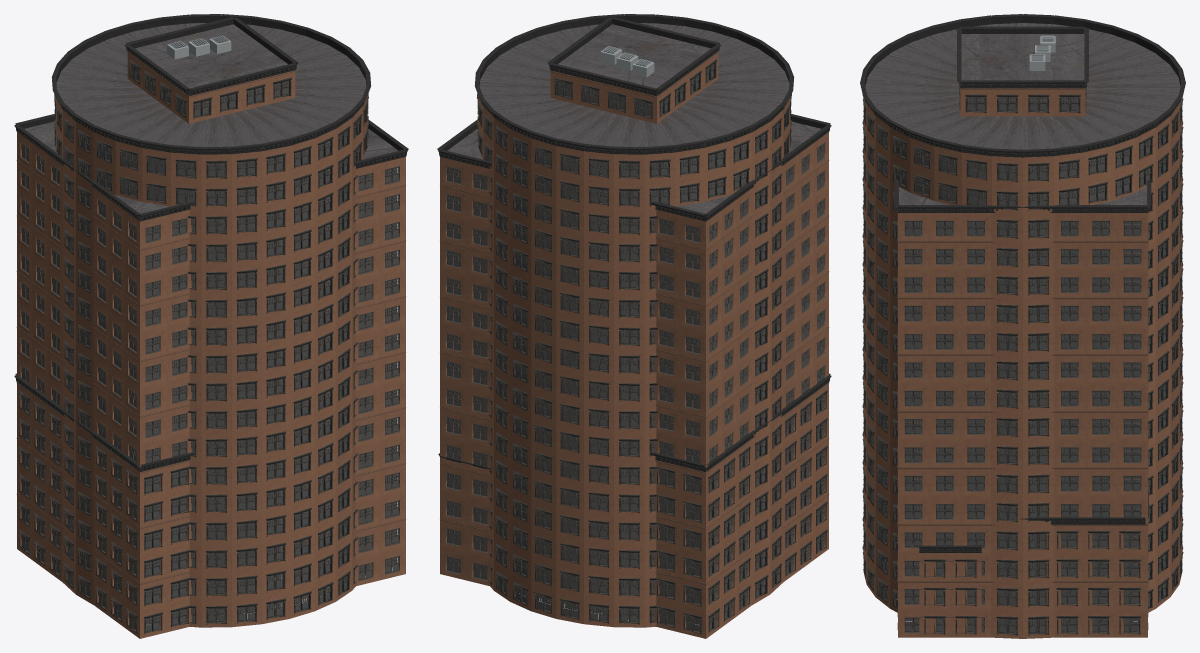
The model's file is urban.glb.
3 renders of one model, left to right at view 1: azimuth 30°, elevation 25°; view 2: azimuth 150°, elevation 25°; view 3: azimuth 270°, elevation 25°, orthographic.
Visible parts, largest first — view 1: radial roof, wall_window_centered_large_03 (×12), textured roof (×2), wall_window_centered_large_02 (×8); view 2: radial roof, textured roof (×2), wall_window_centered_large_03 (×11), wall_window_centered_large_02 (×6); view 3: wall_window_centered_large_03 (×72), wall_window_centered_large_02 (×50), radial roof, textured roof (×2).
Part boxes in pixels (x1,y1,x2,y2): radial roof: [56, 23, 366, 146]; wall_window_centered_large_03 (×12): [140, 157, 405, 580]; textured roof (×2): [24, 24, 398, 220]; wall_window_centered_large_02 (×8): [201, 237, 231, 627]; radial roof: [479, 23, 789, 146]; textured roof (×2): [447, 24, 821, 220]; wall_window_centered_large_03 (×11): [440, 157, 705, 580]; wall_window_centered_large_02 (×6): [614, 237, 644, 627]; wall_window_centered_large_03 (×72): [898, 213, 1147, 637]; wall_window_centered_large_02 (×50): [919, 90, 1145, 638]; radial roof: [865, 23, 1180, 149]; textured roof (×2): [899, 34, 1146, 204].
Bounding box in the file's own units: 31.26 × 55.33 × 31.26.
8 materials, 6 textured.
